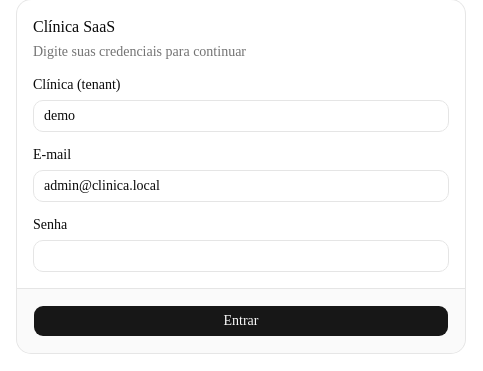
Test: LoginForm › shows loading state during submission
This screenshot has width=483, height=371.
Click the button "Entrar".
click(241, 321)  # box left=33, top=305, right=449, bottom=337
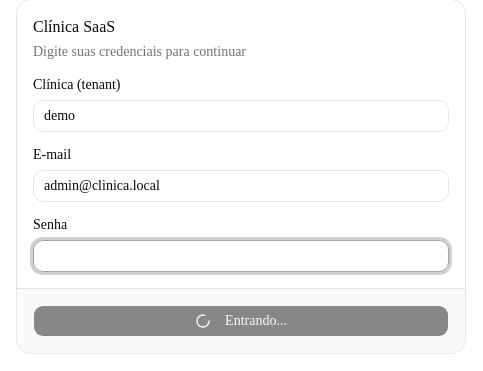
expect the button named "entrar" is disabled: met, box left=33, top=305, right=449, bottom=337
